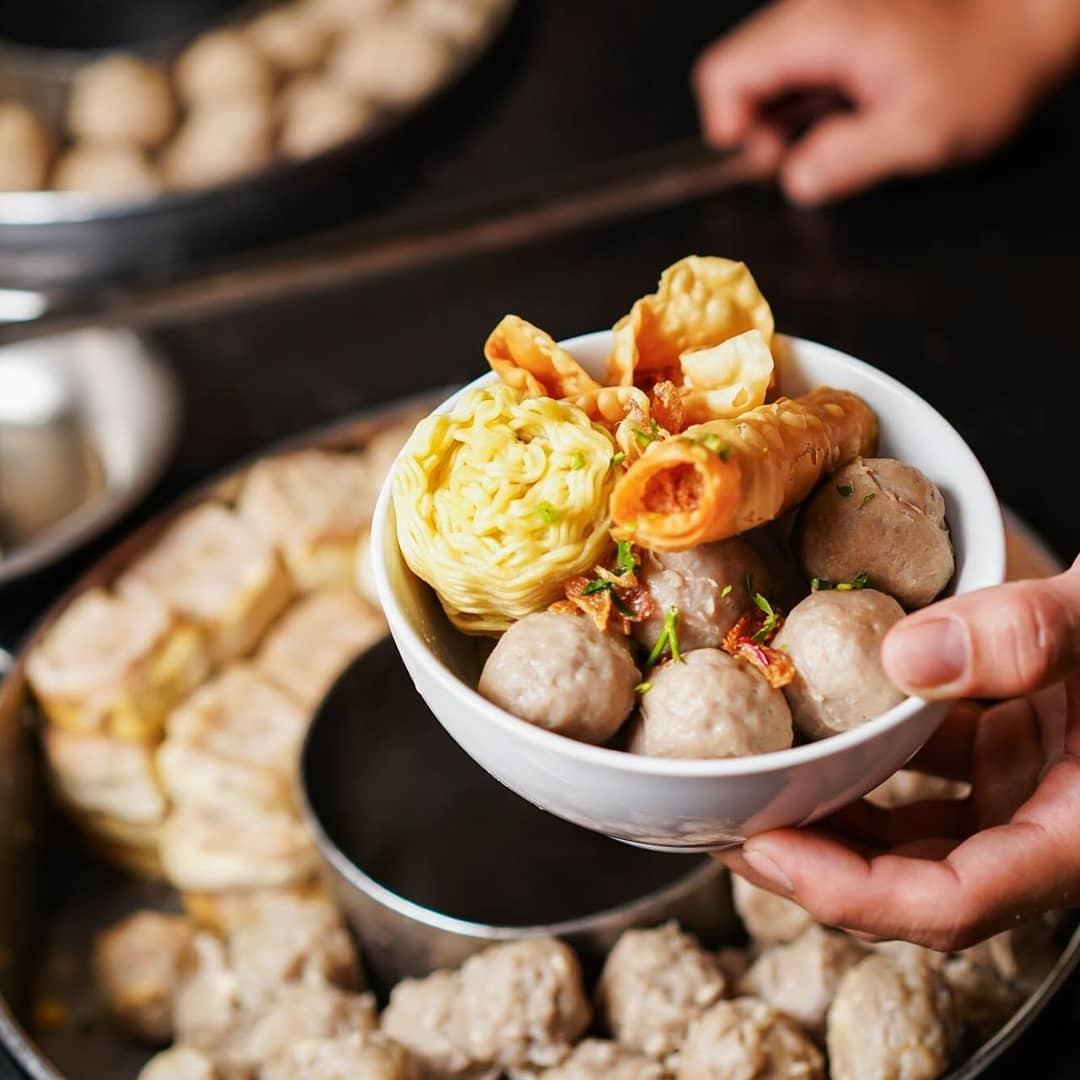bakso_malang: (394, 252, 951, 758)
